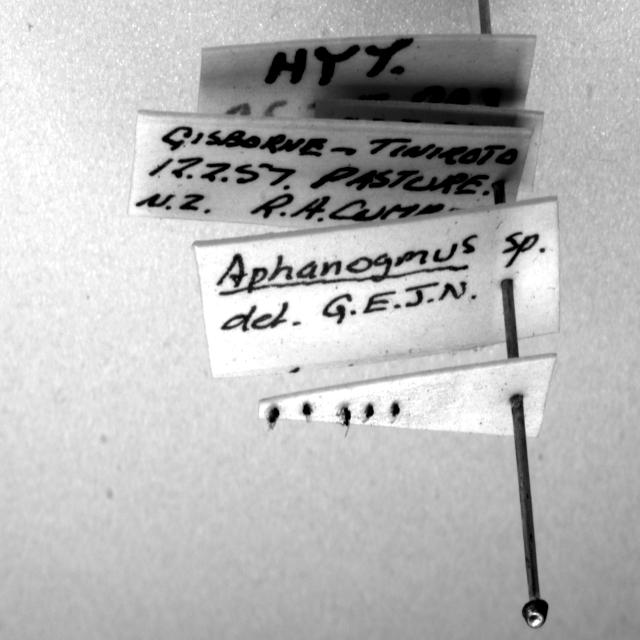hand_label: (194, 197, 560, 377), (129, 111, 531, 229), (199, 34, 535, 118)
